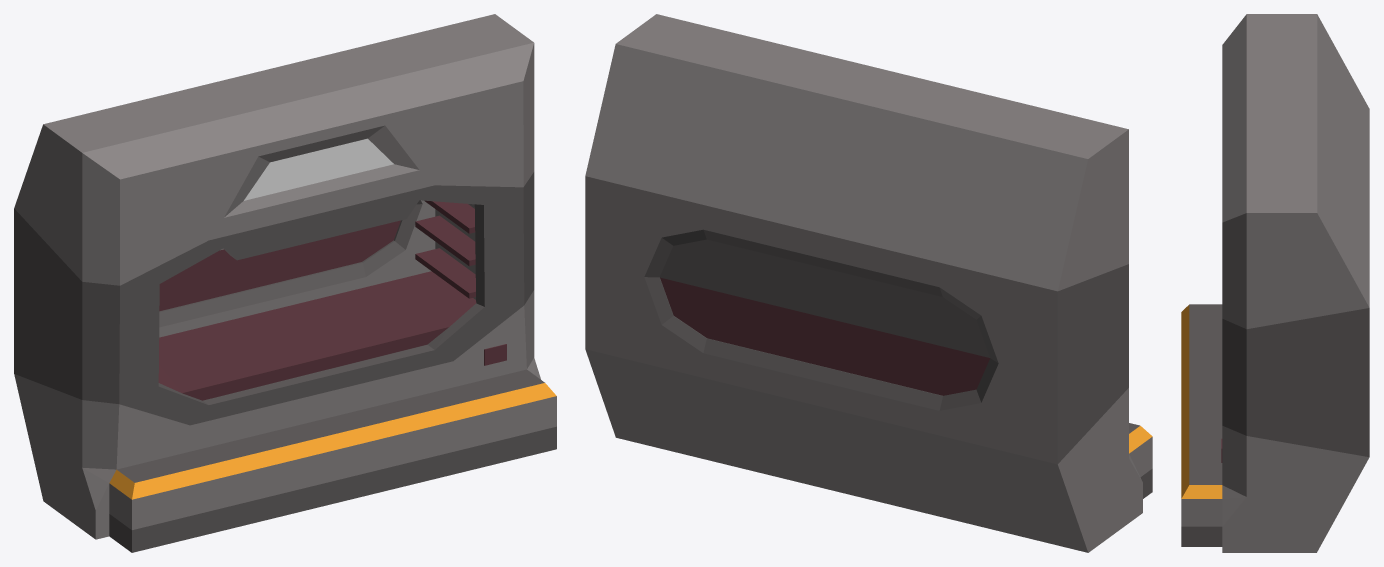
File: scifi-capsule-empty-corridor.fbx
3 renders of one model, left to right at view 1: azimuth 30°, elevation 25°; view 2: azimuth 150°, elevation 25°; view 3: azimuth 270°, elevation 25°, orthographic. The views are drawn at different scales.
Visible parts, largest first — view 1: scifi-capsule-empty-corridor; view 2: scifi-capsule-empty-corridor; view 3: scifi-capsule-empty-corridor.
Boxes of the visible parts, left/top/right/bottom form: scifi-capsule-empty-corridor: left=14, top=14, right=556, bottom=552; scifi-capsule-empty-corridor: left=585, top=14, right=1152, bottom=552; scifi-capsule-empty-corridor: left=1181, top=14, right=1369, bottom=552.
Bounding box in the file's own units: 4 × 3.19 × 1.6.
